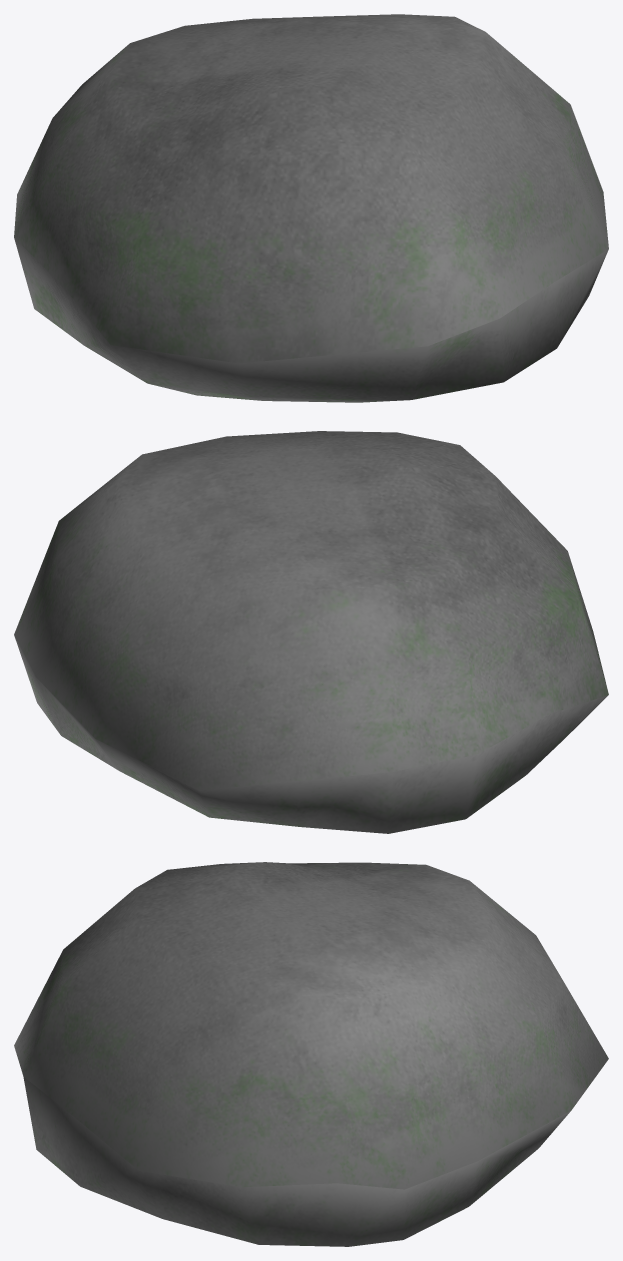
File: Stone 2.fbx
3 views of the same model, one above another, from view 1: azimuth 30°, elevation 25°; view 2: azimuth 150°, elevation 25°; view 3: azimuth 270°, elevation 25° (orthographic). The views are drawn at different scales.
Visible parts, largest first — view 1: Stone 2; view 2: Stone 2; view 3: Stone 2.
Boxes of the visible parts, left/top/right/bottom form: Stone 2: left=14, top=14, right=608, bottom=402; Stone 2: left=14, top=431, right=608, bottom=833; Stone 2: left=14, top=862, right=608, bottom=1246.
Bounding box in the file's own units: 250 × 134 × 264.
